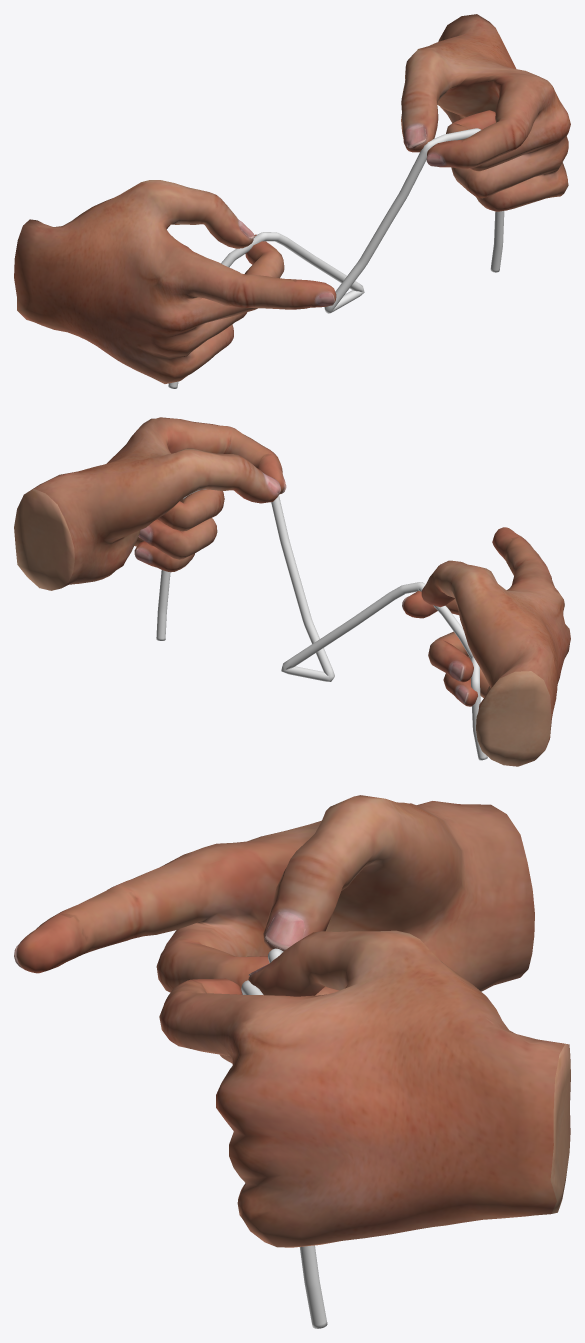
File: zfk_part1_assi_grip.fbx
3 renders of one model, top to bottom at view 1: azimuth 30°, elevation 25°; view 2: azimuth 150°, elevation 25°; view 3: azimuth 270°, elevation 25°, orthographic. The views are drawn at different scales.
Visible parts, largest first — view 1: Hand_R, Hand_L, faden_L, faden_R; view 2: Hand_L, Hand_R, faden_R, faden_L; view 3: Hand_L, Hand_R, faden_L.
Boxes of the visible parts, <box> form: Hand_R: <box>14,180,336,383</box>; Hand_L: <box>401,14,570,211</box>; faden_L: <box>324,128,504,313</box>; faden_R: <box>168,232,364,388</box>; Hand_L: <box>14,417,286,590</box>; Hand_R: <box>402,527,570,766</box>; faden_R: <box>281,582,487,760</box>; faden_L: <box>156,489,334,681</box>; Hand_L: <box>159,930,570,1247</box>; Hand_R: <box>14,795,534,1063</box>; faden_L: <box>241,980,327,1328</box>.
Bounding box in the file's own units: 38.13 × 18.14 × 21.76.
